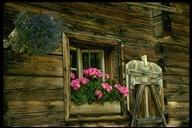flower: (70, 67, 134, 104)
window: (64, 32, 125, 115), (128, 60, 168, 126)
wood: (5, 57, 65, 125)
